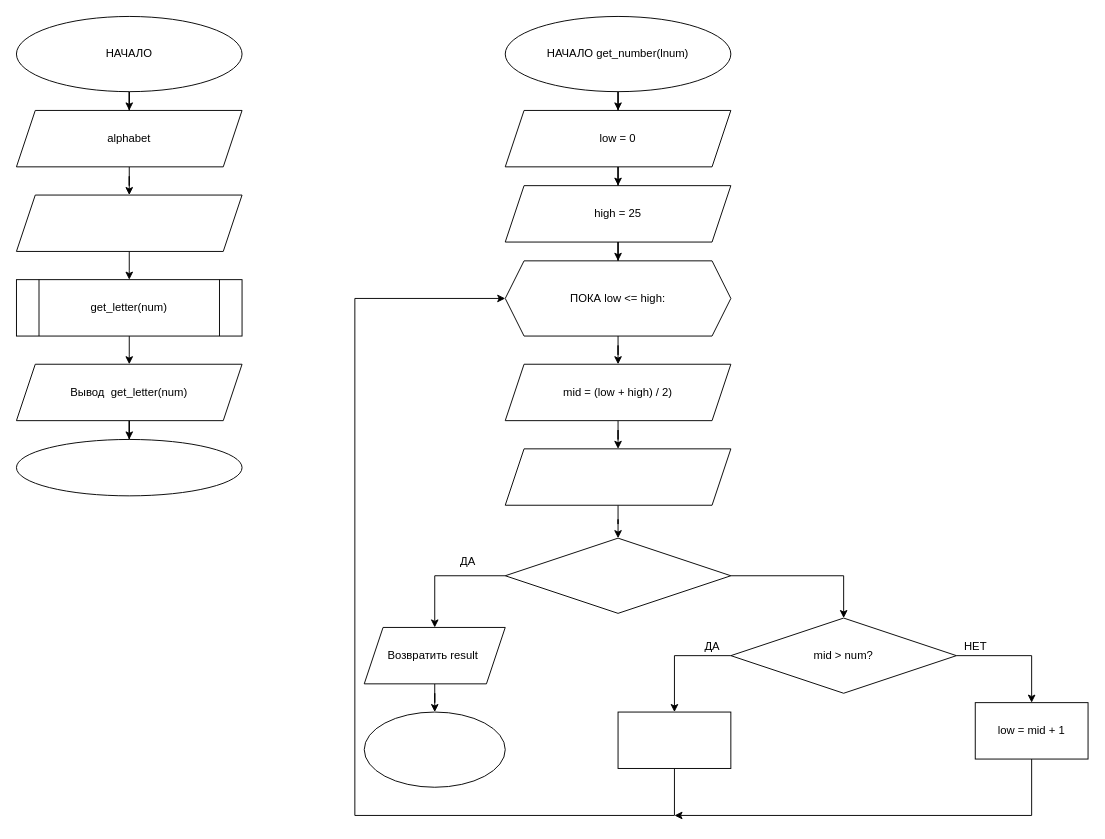
Some shapes in this 1105 by 839 pixel diagram are drawn without their labels. The shapes that lost their labels are listed below. From the top down, each one's box as (x1, y1, x2, y2) in pixels, then its label:
(16, 194, 242, 251): Ввод num
(16, 439, 242, 496): КОНЕЦ
(504, 448, 731, 505): result = alphabet[mid -1]
(504, 537, 731, 613): mid == num?
(363, 711, 505, 787): КОНЕЦ get_number(letter)
(617, 711, 731, 768): high = mid - 1
